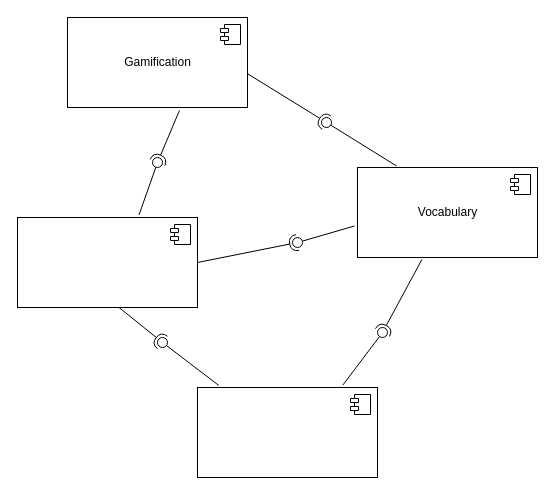
Some shapes in this 555 by 495 pixel diagram are drawn without their labels. Here are the shapes that lost their labels. From the top down, the centre of each, then its label:
At point 107,262: "User-Mgmt".
At point 287,432: "Database-Conn".
